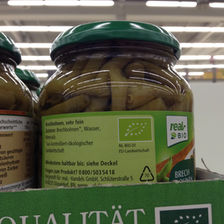beans: (40, 21, 198, 188)
